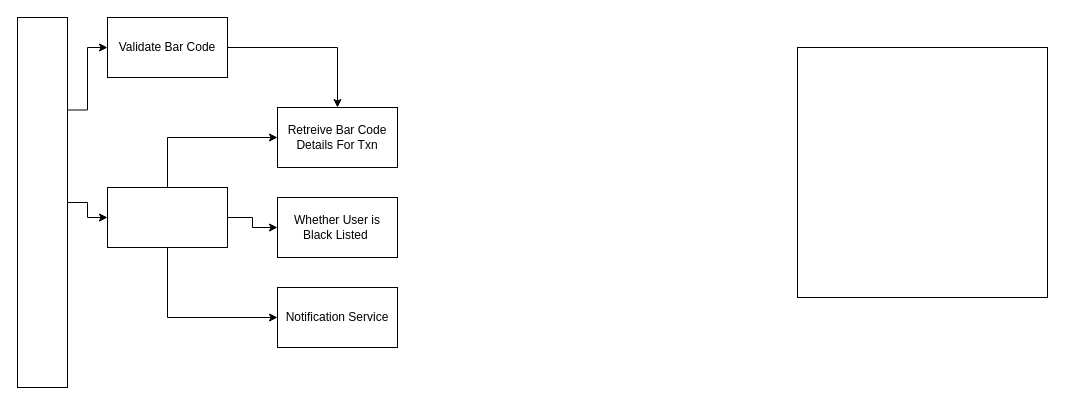
The diagram is 1065 pixels wide and 405 high, and some of its shapes have lost their labels. Each missing label, with the centre of its shape:
"API Gateway" belongs at (42,202).
"Execute Toll" belongs at (167,217).
